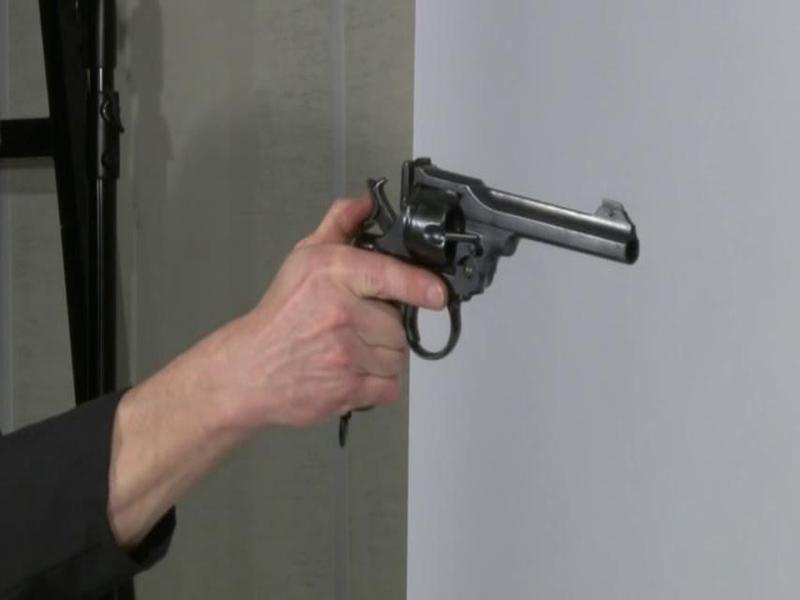Revolver: (324, 133, 674, 445)
